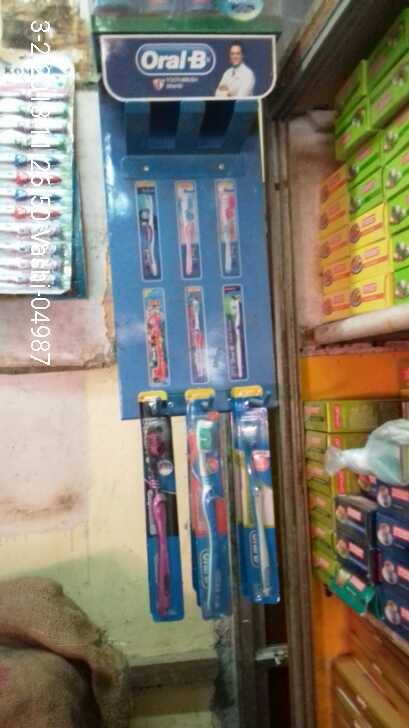oralb: (137, 395, 186, 627), (183, 398, 231, 620), (235, 397, 285, 606)
